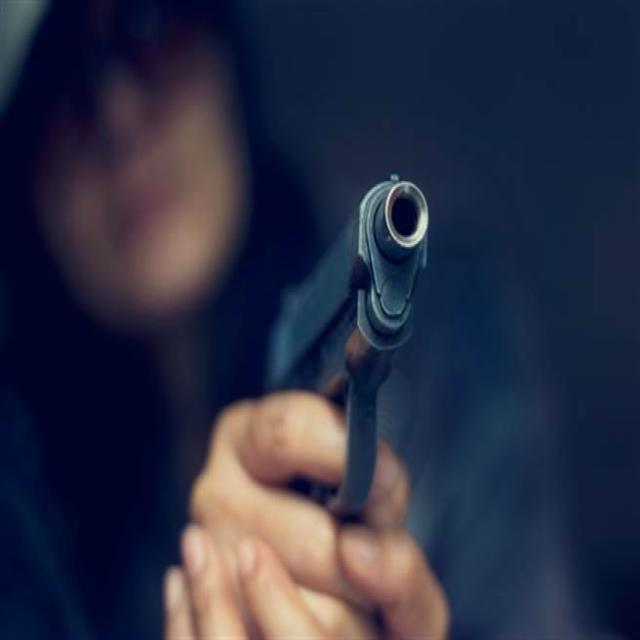gun: (246, 217, 448, 467)
